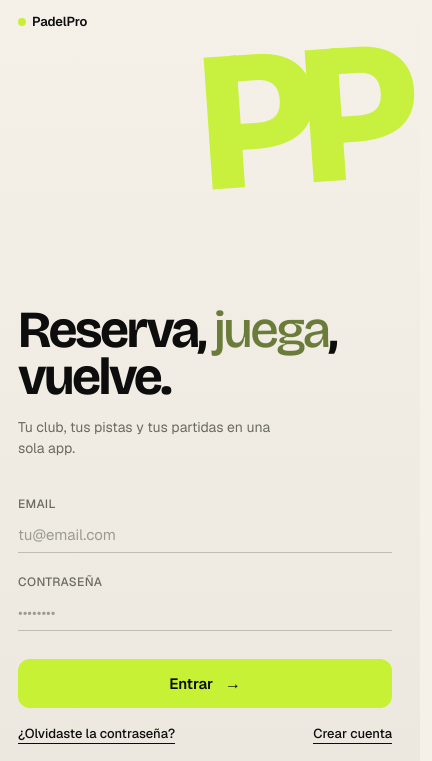
Test case: LoginPage — UX de acceso (acceso-cuenta-prod) › 7.2 — maps 403 ACCOUNT_NOT_ACTIVE to a pending/blocked message
The image size is (432, 761).
In the field labelled "Email": point(205, 534) [18,516,392,552], type "pending@test.com"
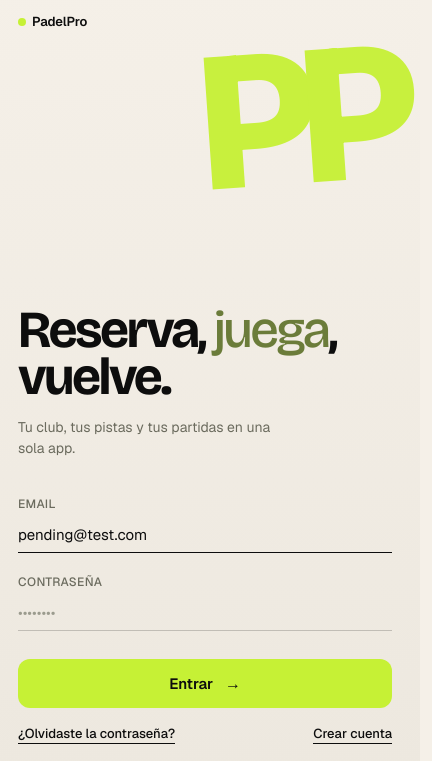
In the password field labelled "Contraseña": point(205, 612) [18,594,392,630], type "Password1"
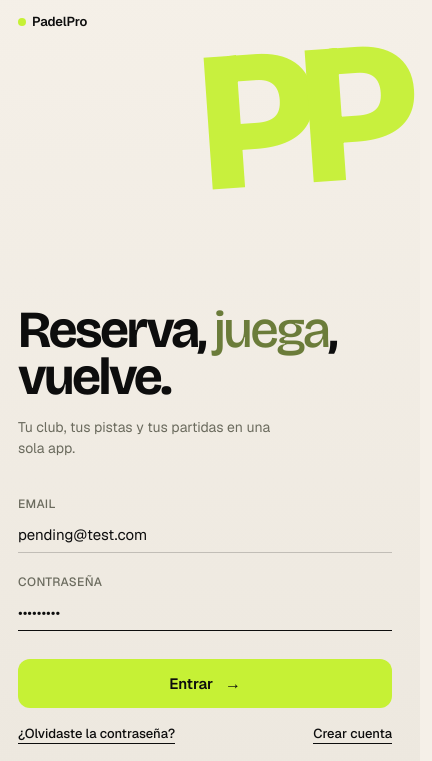
Click the button "Entrar →": point(205, 683) [18,658,392,708]
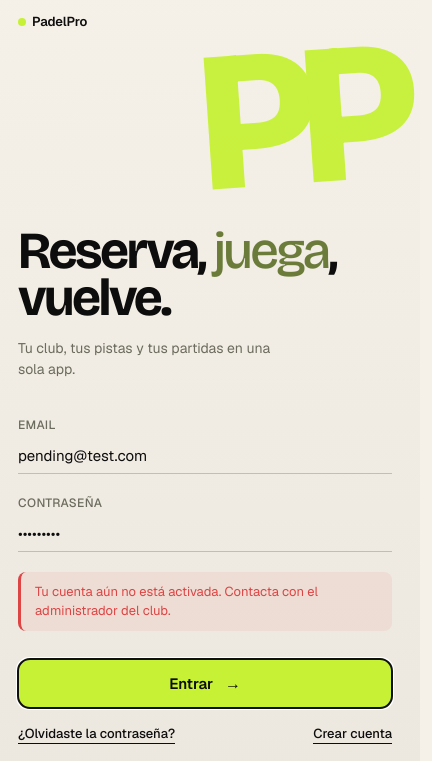
expect the message reads "Tu cuenta aún no está activada. Contacta con el administrador del club.": met, box [35,582,318,619]
